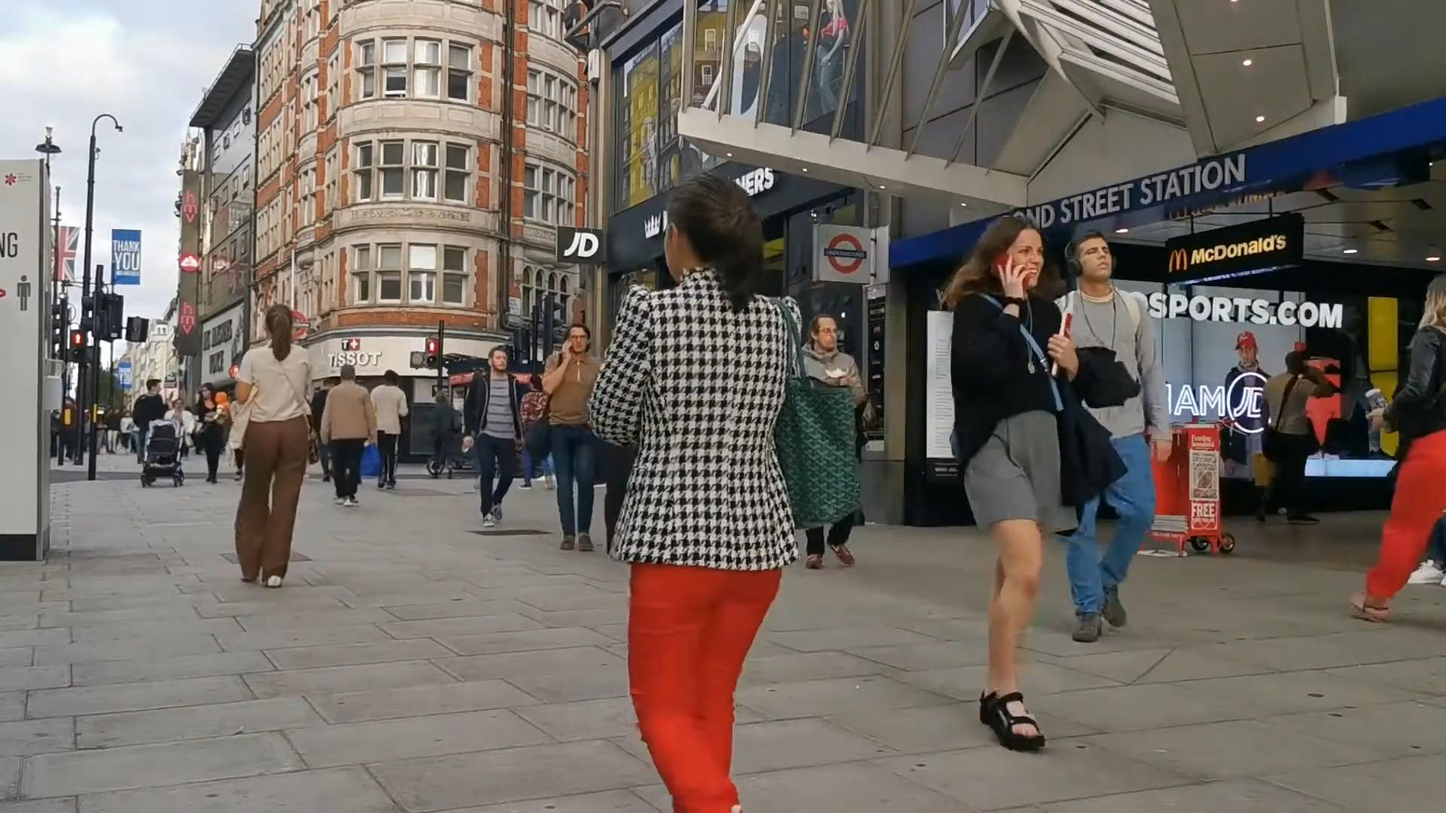no-helmet: (665, 171, 764, 314), (974, 216, 1048, 293), (1064, 230, 1117, 285), (263, 304, 292, 363), (808, 313, 837, 352), (564, 323, 591, 355), (487, 346, 508, 374)
